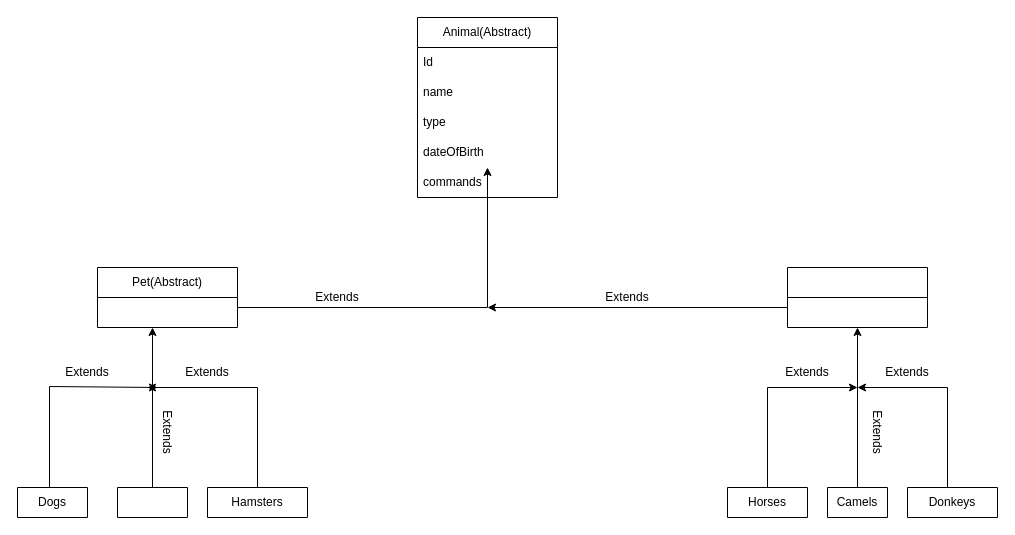
Image size: 1015x535. Some labels were removed from this diagram. Each missing label, with the centre of its shape:
"Cats" goes at point (152, 502).
"Pack_animal(Abstract)" goes at point (857, 297).
